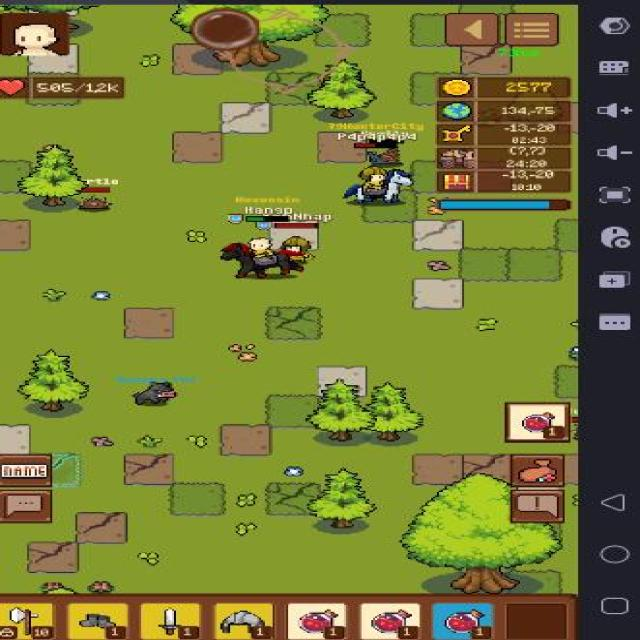blood_bottle: (503, 399, 573, 448), (423, 597, 498, 640), (356, 598, 424, 637), (286, 601, 348, 640)
earth_square: (25, 541, 76, 573), (124, 453, 174, 485), (75, 513, 126, 544), (412, 453, 462, 484), (220, 424, 271, 454), (315, 132, 366, 162), (124, 308, 174, 338), (172, 133, 222, 162), (462, 44, 513, 72), (462, 454, 511, 481), (0, 218, 31, 249)
grass: (137, 551, 159, 566), (41, 289, 64, 303), (139, 436, 161, 448), (189, 436, 209, 447)
gray_square: (222, 101, 271, 133), (412, 278, 462, 309), (25, 44, 77, 72), (317, 365, 364, 395), (412, 221, 462, 249), (0, 423, 31, 454)
green_square: (316, 6, 375, 51), (458, 242, 515, 283), (265, 70, 327, 104), (263, 480, 319, 514), (503, 567, 568, 594), (170, 483, 226, 514), (265, 307, 319, 338), (506, 248, 560, 279), (48, 448, 85, 491), (411, 11, 451, 47), (409, 67, 441, 108), (556, 364, 582, 401), (555, 217, 578, 250)
mouse: (219, 242, 304, 282), (339, 166, 414, 206)
player: (282, 232, 314, 268), (358, 165, 392, 198), (253, 233, 277, 263)
tree: (400, 472, 567, 592), (168, 1, 323, 71), (306, 371, 426, 443), (300, 465, 379, 531), (15, 348, 89, 413), (15, 144, 89, 206)
turtle: (73, 176, 118, 213)
